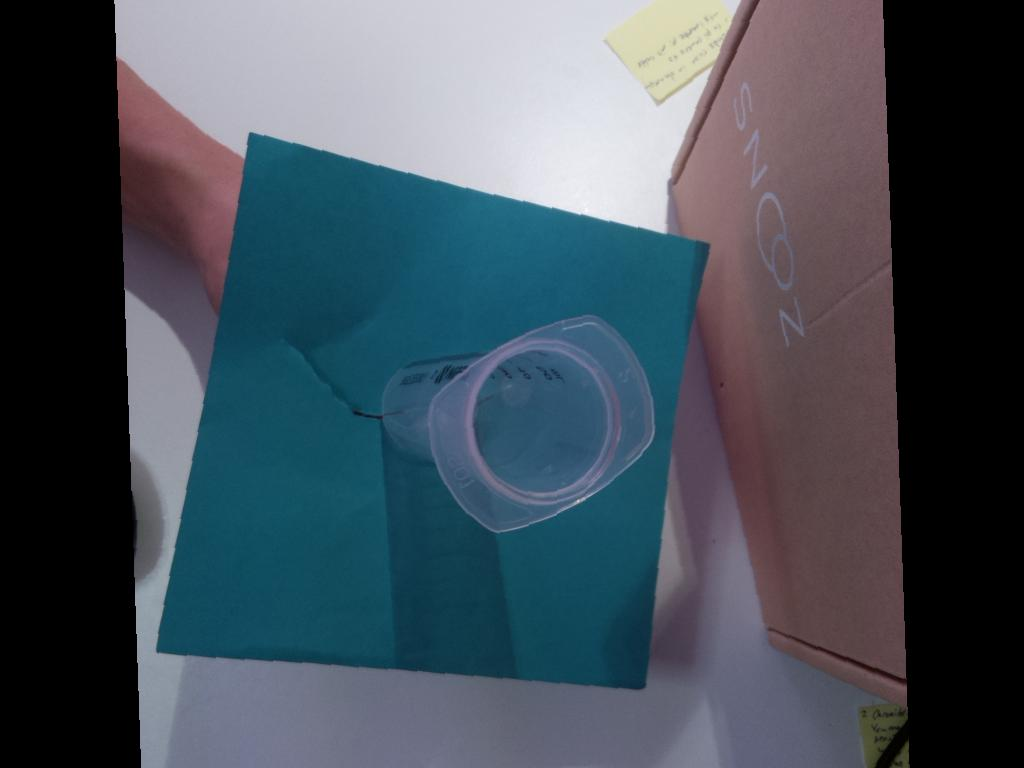clean: (427, 315, 658, 534)
